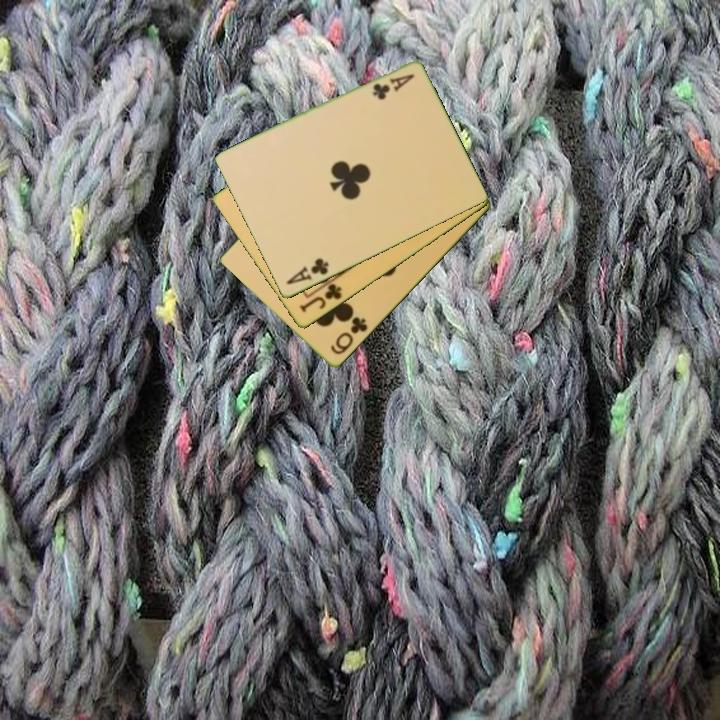6c: (327, 313, 371, 358)
Ac: (283, 255, 332, 288), (368, 71, 417, 103)
Jc: (296, 280, 345, 316)
